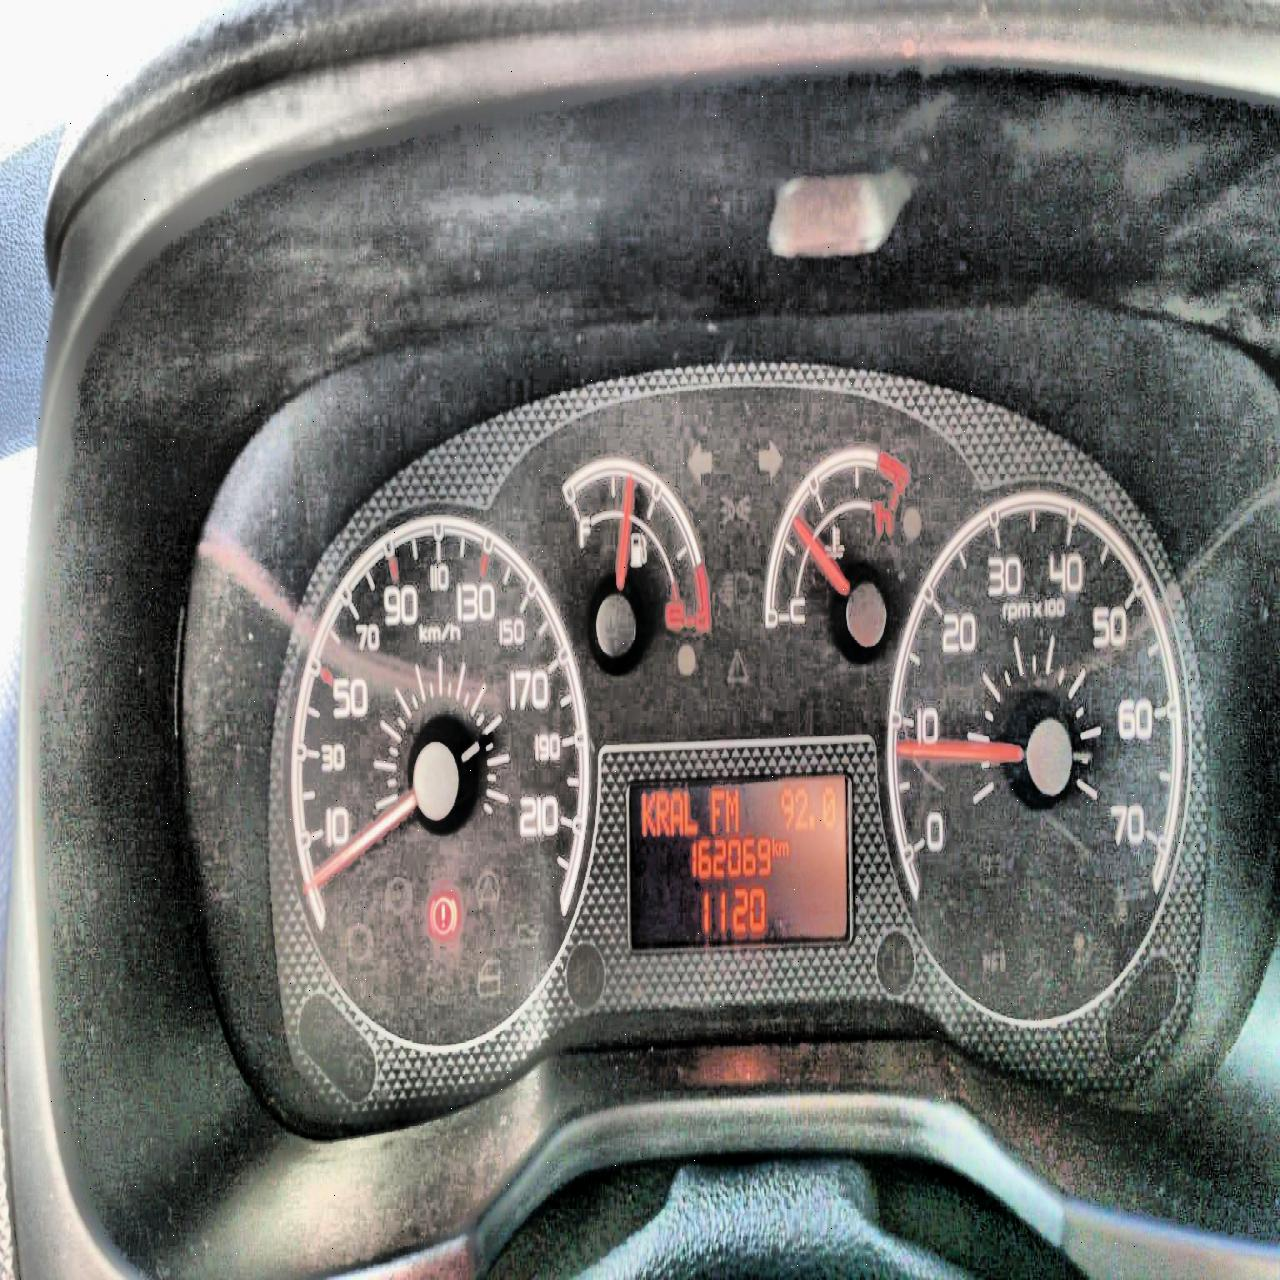-: (809, 811, 816, 830)
0: (748, 886, 764, 932), (821, 784, 835, 829), (727, 837, 741, 877)
1: (720, 890, 726, 932), (703, 890, 709, 932), (692, 842, 697, 877)
2: (730, 886, 747, 933), (794, 785, 809, 830), (713, 837, 726, 877)
6: (742, 836, 756, 877), (697, 839, 712, 877)
9: (779, 787, 794, 830), (757, 836, 770, 876)
X: (682, 790, 697, 836), (668, 790, 683, 836), (641, 791, 656, 836), (710, 788, 724, 835), (724, 787, 738, 832), (655, 791, 669, 835), (778, 840, 789, 858), (771, 837, 777, 856)
odometer: (621, 768, 856, 955)
